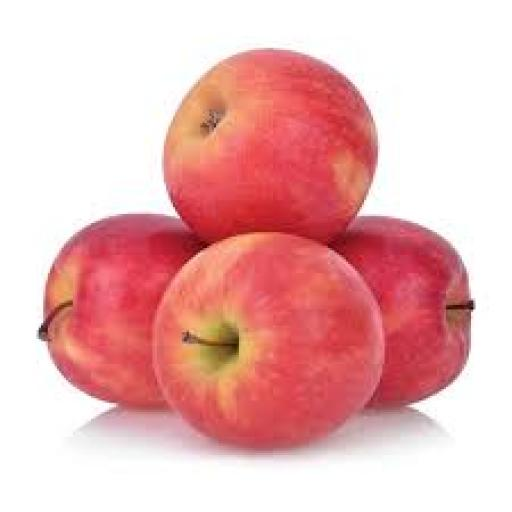apple: (153, 233, 384, 448), (164, 51, 377, 243), (39, 214, 202, 407), (333, 217, 473, 407)
